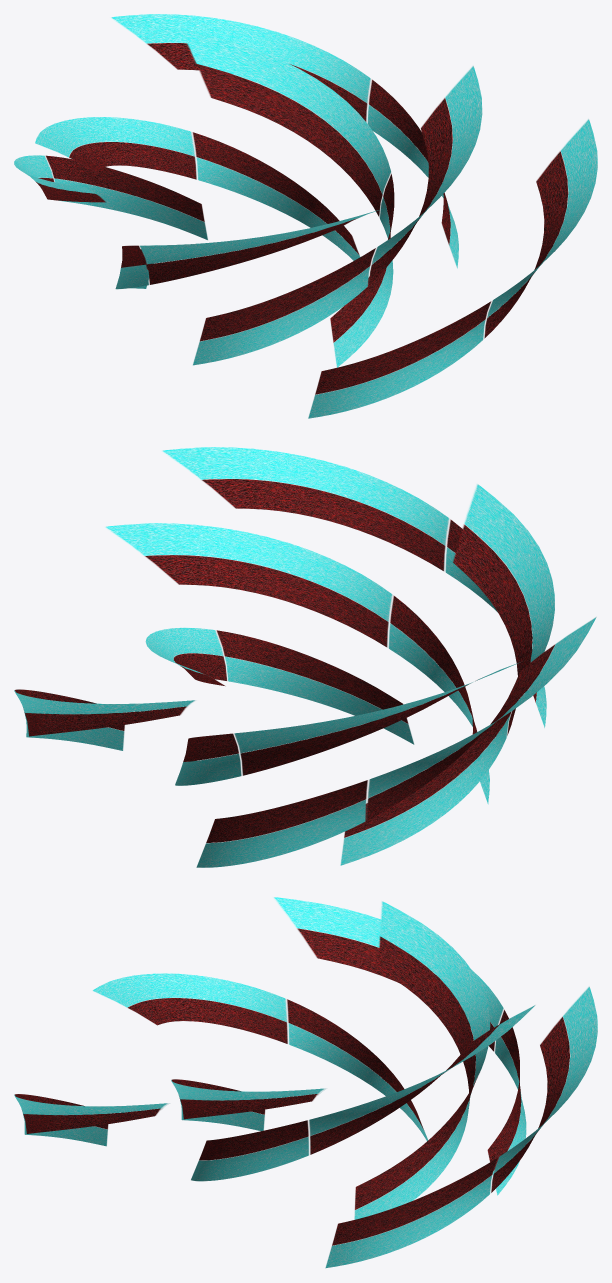
3 renders of one model, top to bottom at view 1: azimuth 30°, elevation 25°; view 2: azimuth 150°, elevation 25°; view 3: azimuth 270°, elevation 25°, orthographic. The views are drawn at different scales.
Parts seen in each view (by area): view 1: SM_VFX_Swirls_LOD0; view 2: SM_VFX_Swirls_LOD0; view 3: SM_VFX_Swirls_LOD0.
Boxes of the visible parts, <box> form: SM_VFX_Swirls_LOD0: <box>14,14,597,418</box>; SM_VFX_Swirls_LOD0: <box>14,447,596,867</box>; SM_VFX_Swirls_LOD0: <box>14,897,597,1268</box>.
Bounding box in the file's own units: 32.64 × 13.63 × 38.32.
Materials: 1 (1 with a texture image).
